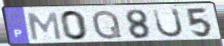0: (59, 9, 90, 41)
5: (185, 6, 215, 38)
8: (123, 8, 152, 40)
M: (26, 11, 63, 41)
Q: (91, 9, 125, 41)
U: (151, 7, 185, 39)
